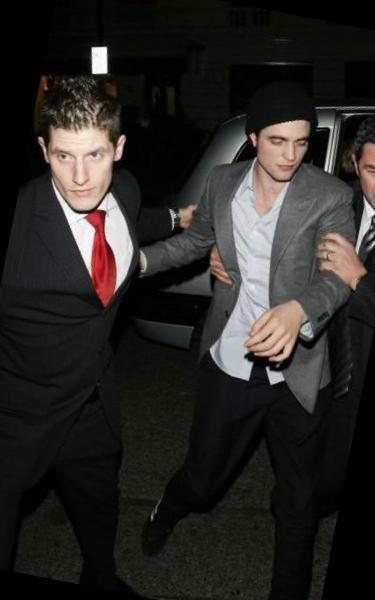Drunk: (259, 124, 307, 181)
Sober: (49, 129, 117, 205)
